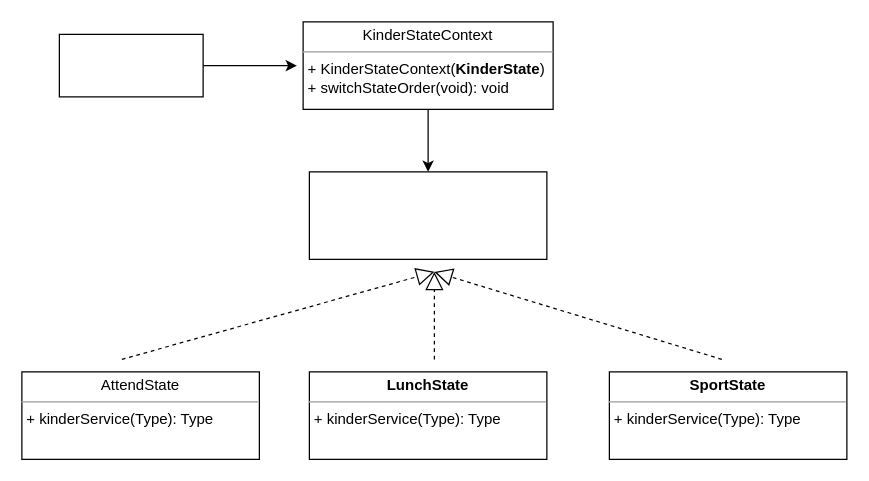
Image size: 869x481. Some labels were removed from this diagram. The centre of each missing label's shape, as x and y in pixels:
"<<Interface>> KinderState + kinderService(Type): Type" goes at (x=427, y=215).
"Client + main(args): void" goes at (x=130, y=65).
